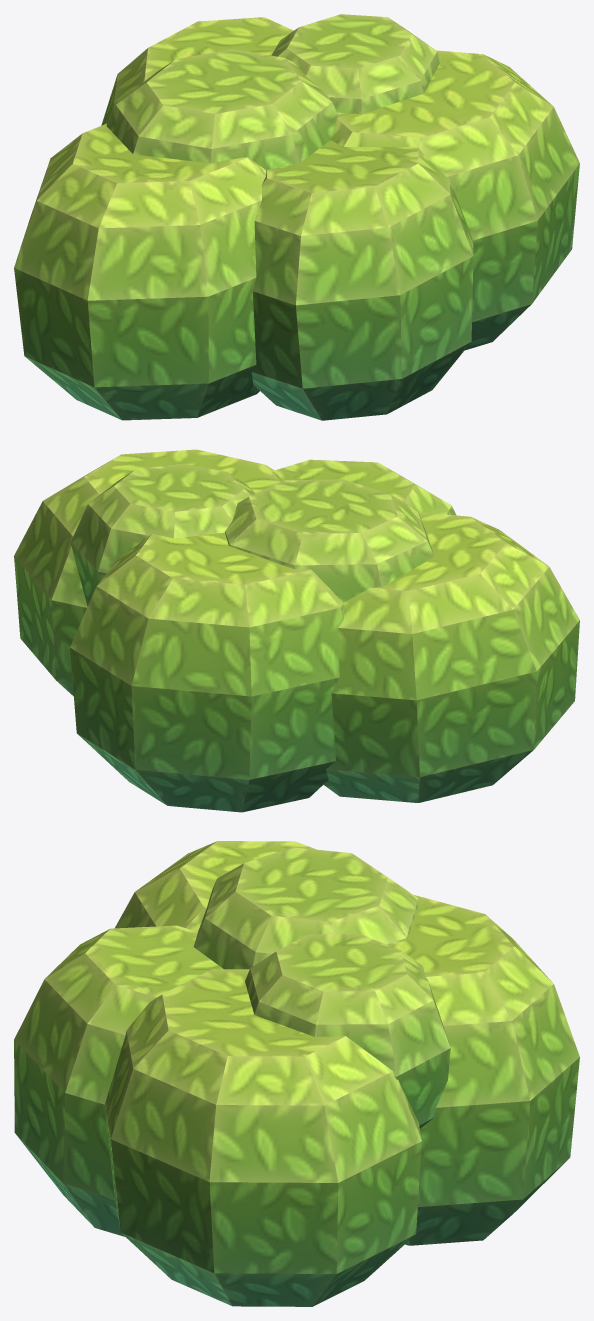
Rendered from bush.glb.
3 renders of one model, top to bottom at view 1: azimuth 30°, elevation 25°; view 2: azimuth 150°, elevation 25°; view 3: azimuth 270°, elevation 25°, orthographic. The views are drawn at different scales.
Visible parts, largest first — view 1: foliage_v3; view 2: foliage_v3; view 3: foliage_v3.
Part boxes in pixels (<box>): foliage_v3: <box>14,14,579,420</box>; foliage_v3: <box>14,449,579,812</box>; foliage_v3: <box>14,841,579,1306</box>.
Bounding box in the file's own units: 11.84 × 5.8 × 9.98.
1 material, 1 textured.
